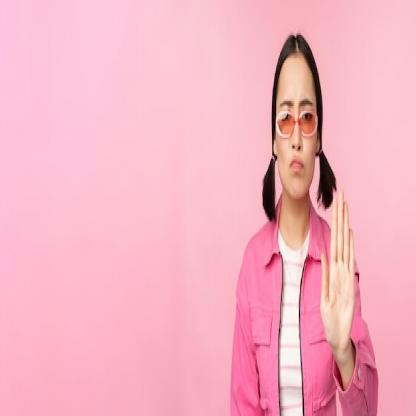stop: (320, 183, 360, 344)
